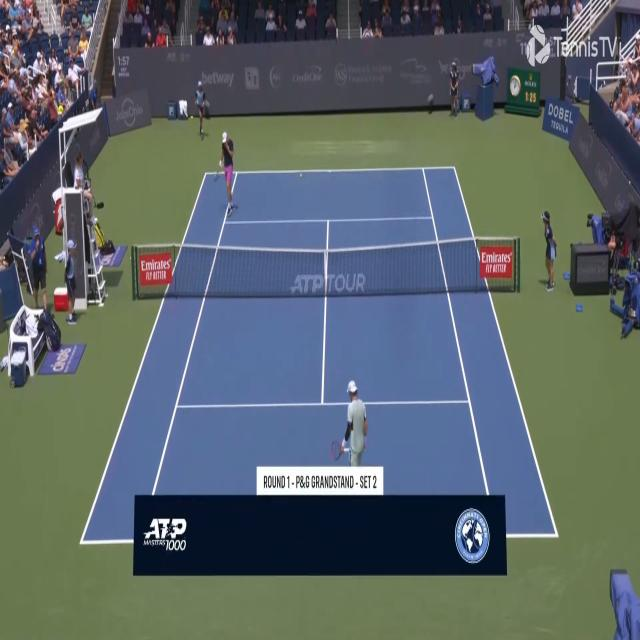tennis-player: (328, 378, 368, 493), (214, 130, 238, 218)
